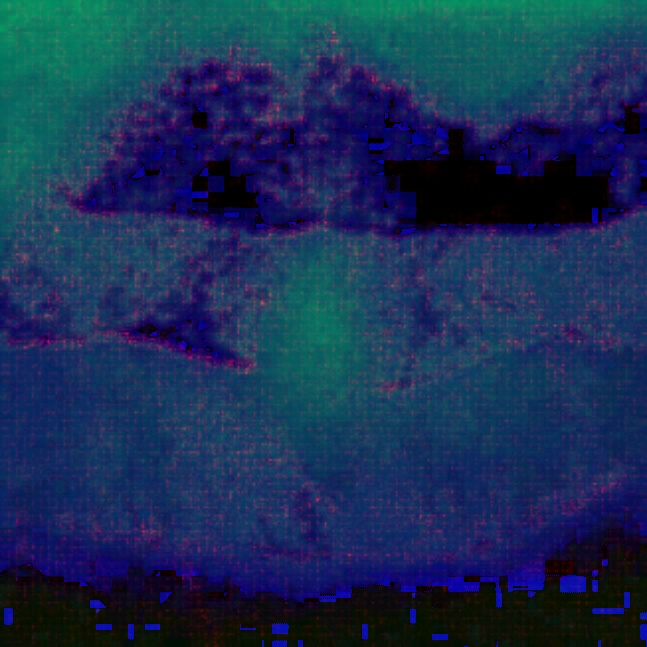rip_current: (208, 30, 440, 548)
